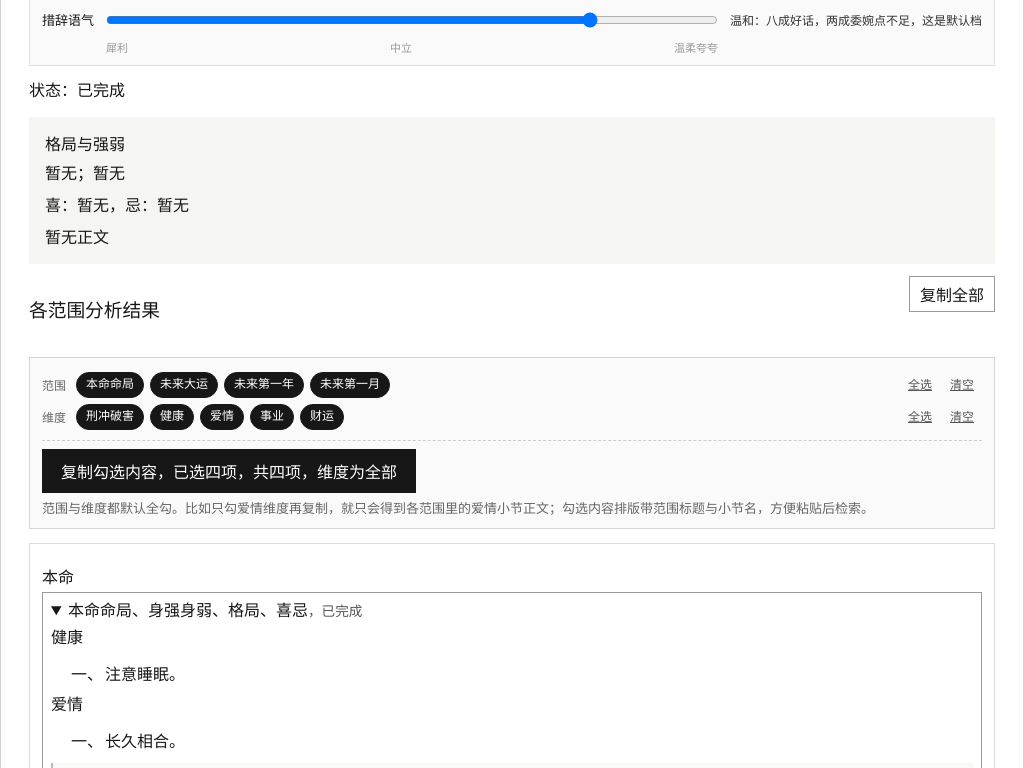
it: 复制回执的项数必须等于正文里真的有几项 › 取消两个范围后：回执两项，且被取消那两节的正文确实不在剪贴板里
(page scrolled)
Expected: the button "复制勾选内容" is shown, [42,449,416,493]
Click the button "本命命局".
click(110, 385)  # box [76,372,144,398]
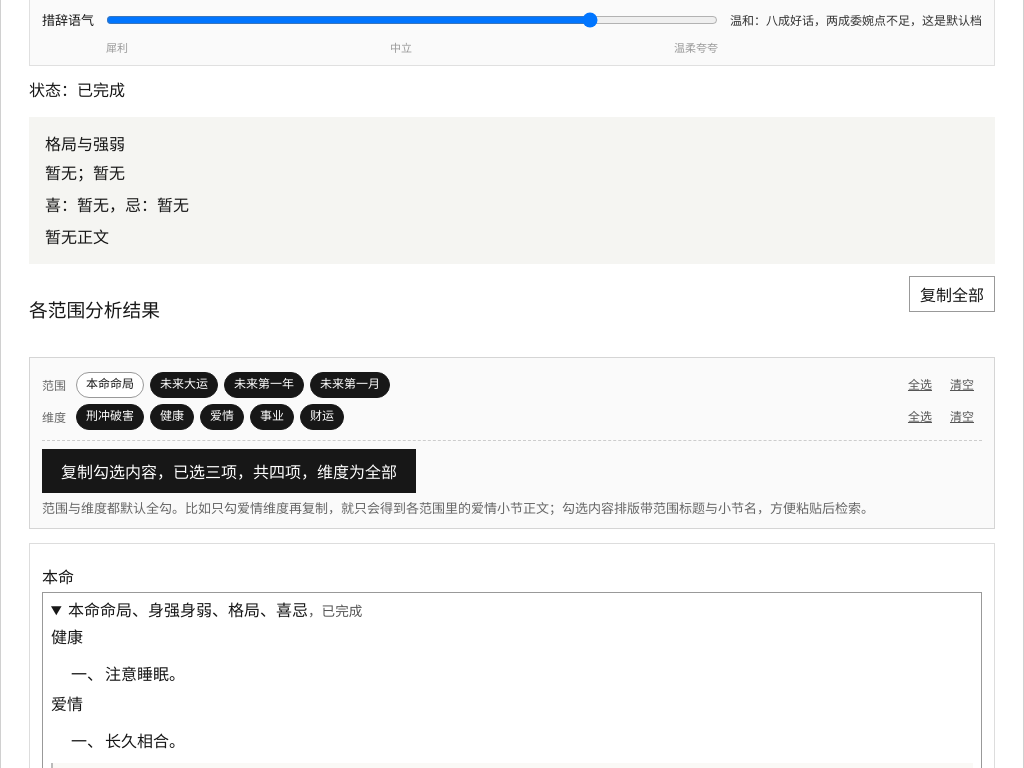
Click the button "未来大运".
click(184, 385)  # box [150,372,218,398]
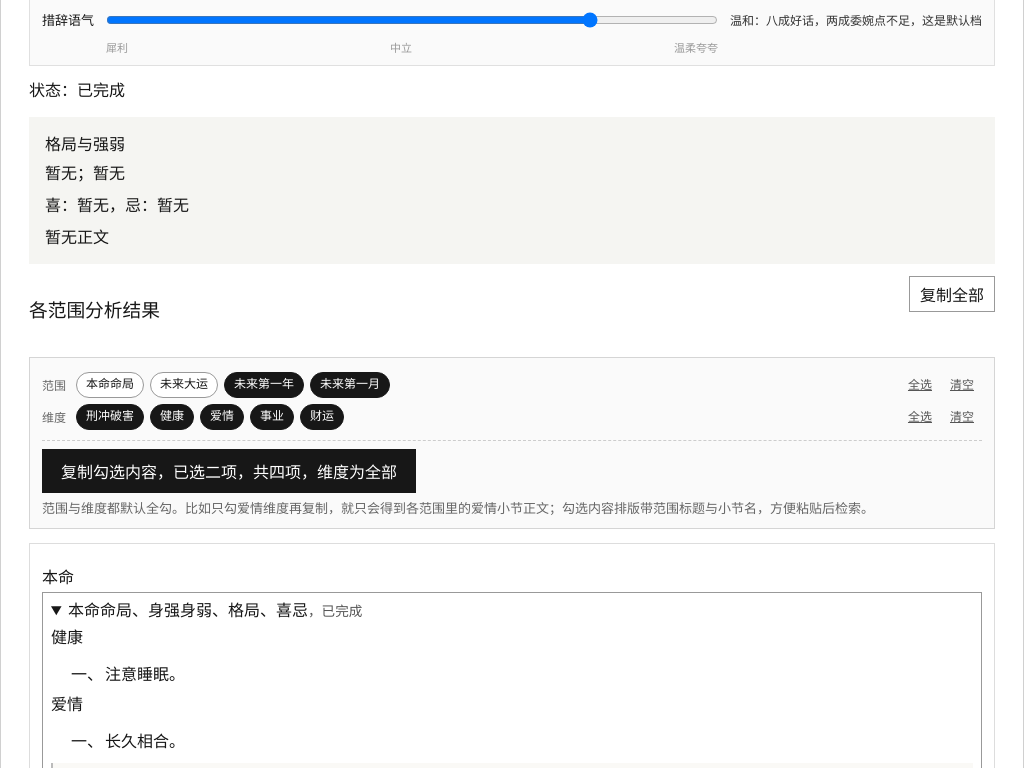
Click the button "复制勾选内容".
click(229, 471)  # box [42,449,416,493]
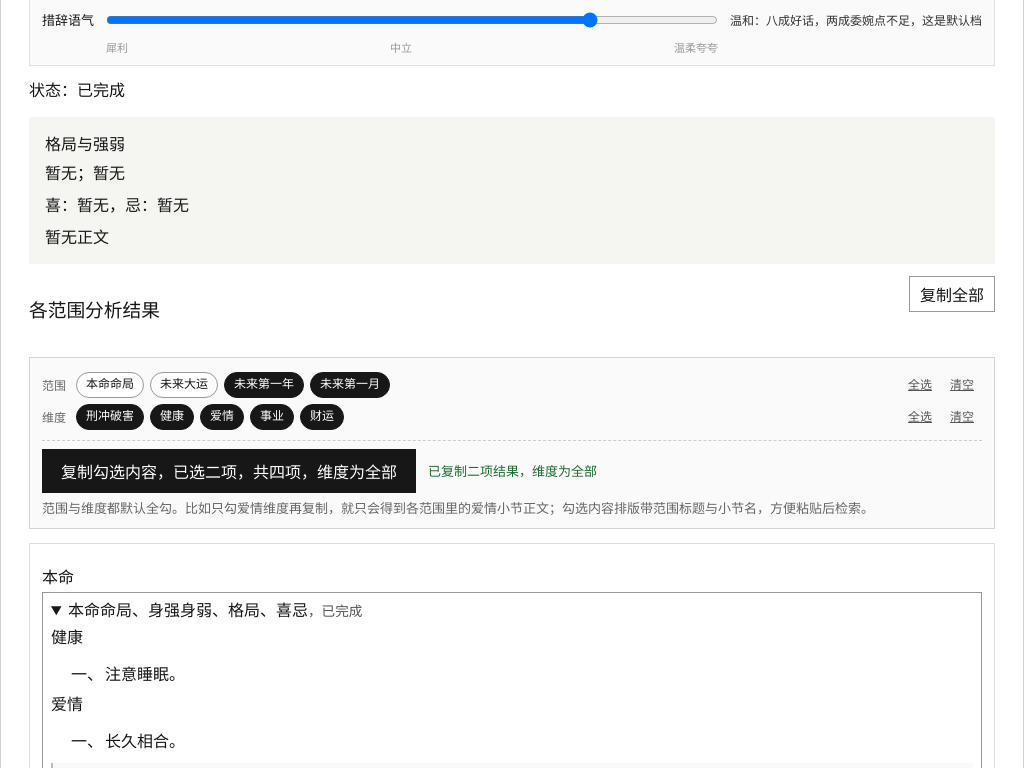
Expected: the 2nd message shows "已复制二项结果", [428,464,597,479]
